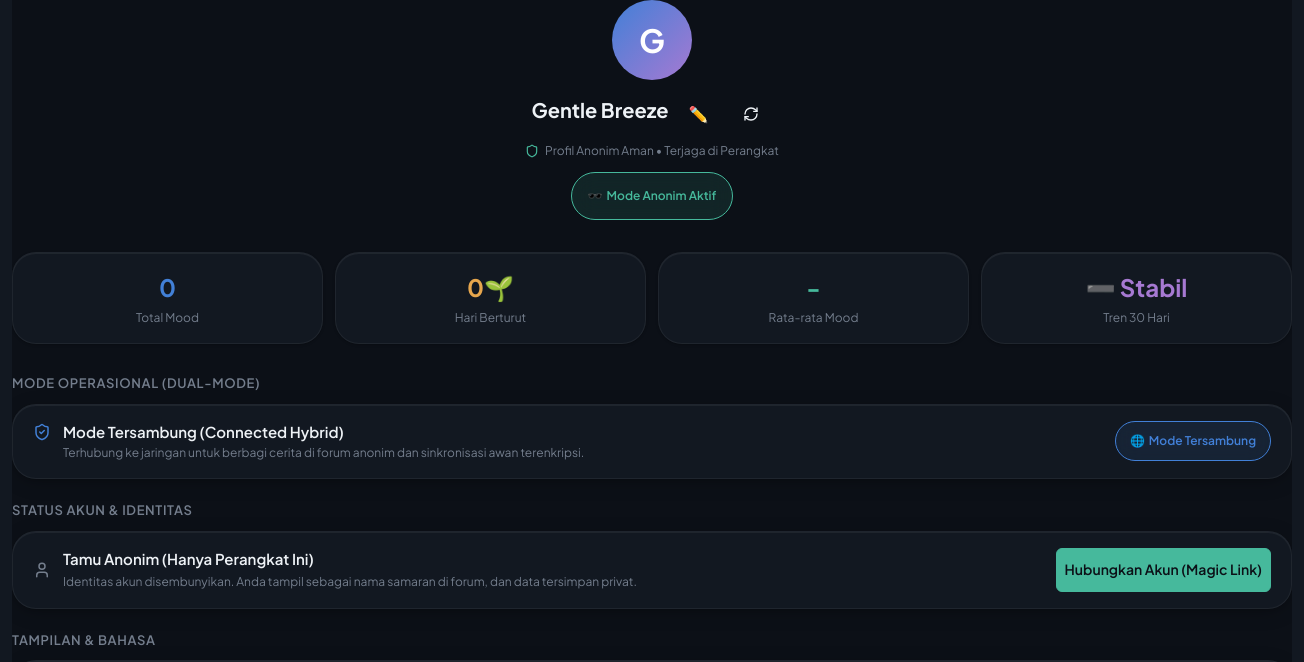
Scenario: Profile Component - Import File Handling › renders Dual-Mode operating settings and allows toggling between Air-Gapped and Connected modes
expect the heading "MODE OPERASIONAL (DUAL-MODE)" is shown: met, box x1=12 y1=375 x2=260 y2=391
Click the button "🌐 Mode Tersambung" at (1193,441), box x1=1115 y1=421 x2=1271 y2=461
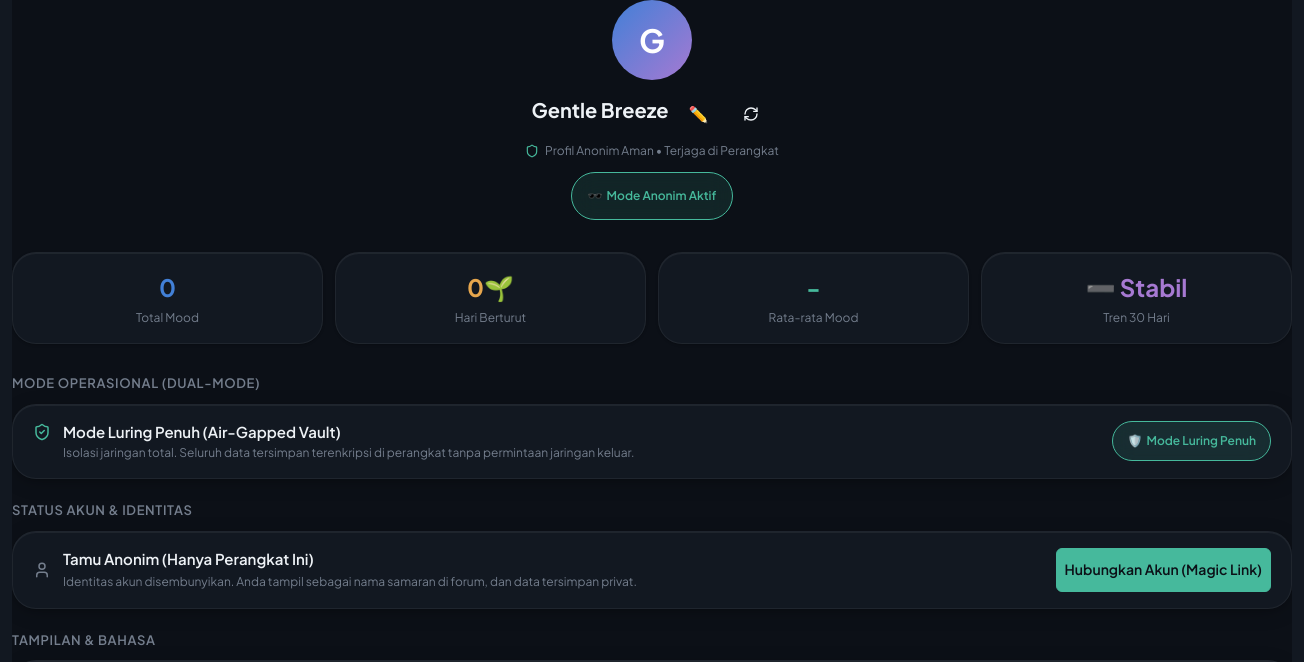
expect the text "Mode Luring Penuh (Air-Gapped Vault)" is shown: met, box x1=63 y1=422 x2=341 y2=441
